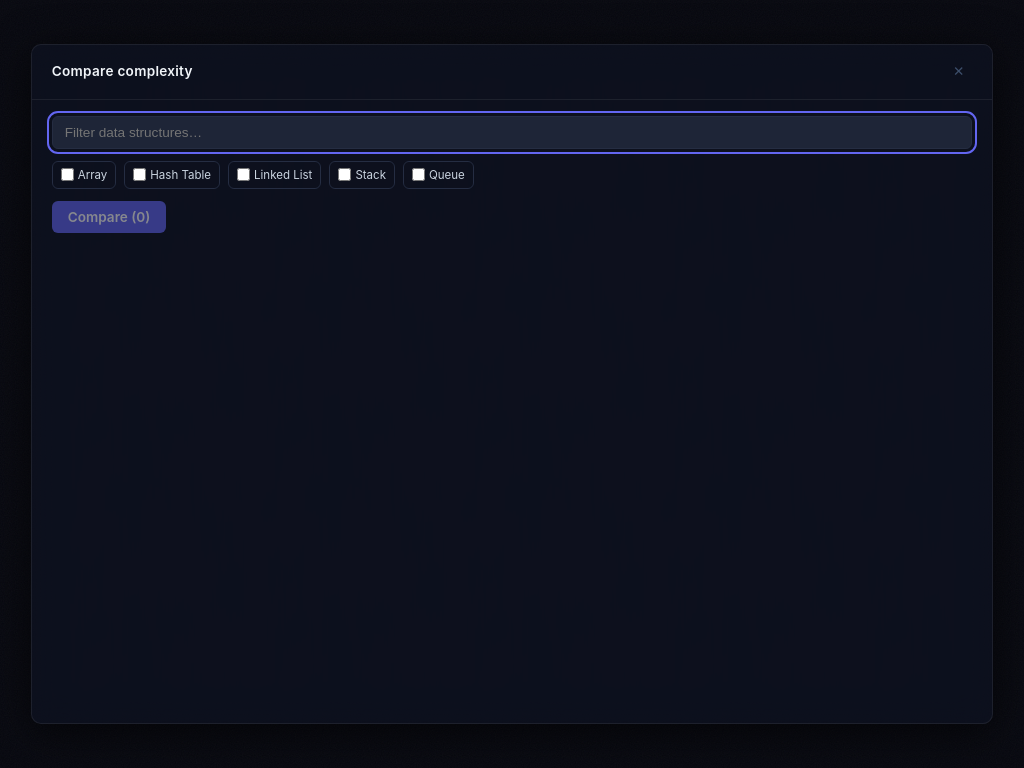
it: ComplexityCompare › filters the picker by search input
This screenshot has width=1024, height=768.
Expected: the text "Array" is shown, top-left (78, 166), bottom-right (107, 184)
In the field labelled "Filter data structures": (512, 132) top-left (52, 116), bottom-right (972, 149), type "hash"
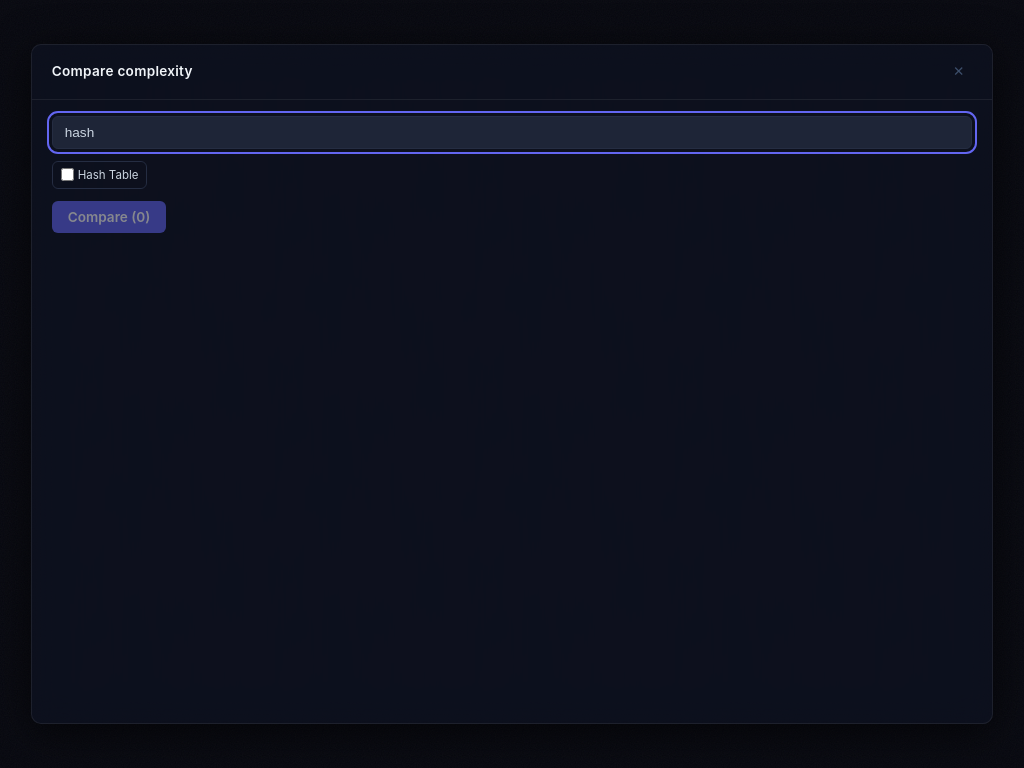
Expected: the text "Hash Table" is shown, top-left (78, 166), bottom-right (138, 184)
Result: the text "Array" is gone
